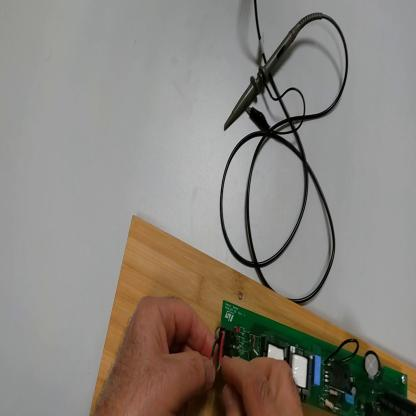hand: (96, 297, 217, 412), (221, 351, 304, 414)
high voltage board: (209, 301, 415, 416)
oscilloscope probe tip: (223, 19, 303, 130)
working area: (90, 218, 416, 416)
